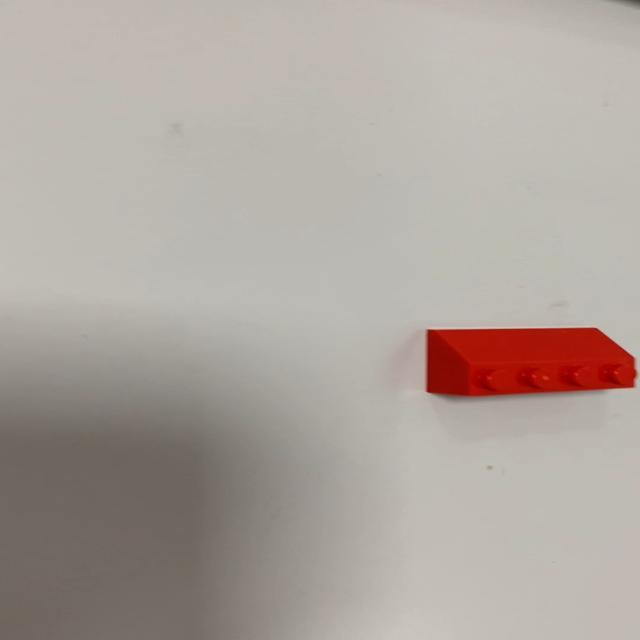P4x2x1: (424, 326, 636, 397)
